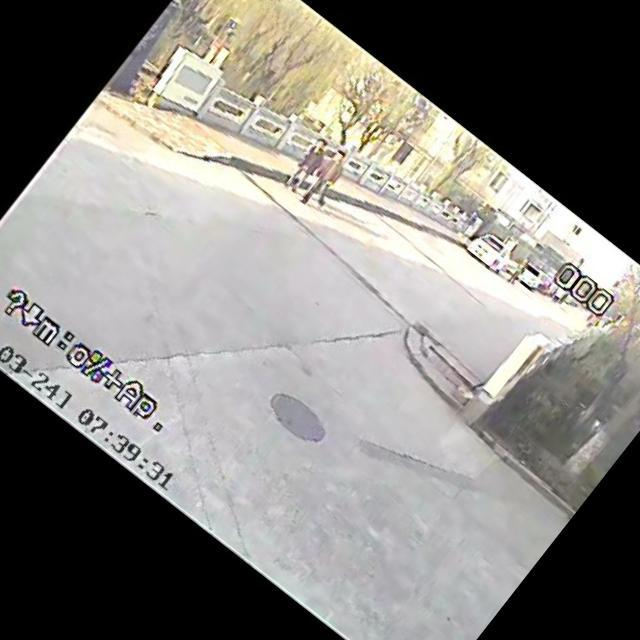person: (299, 134, 375, 215), (278, 132, 335, 192)
